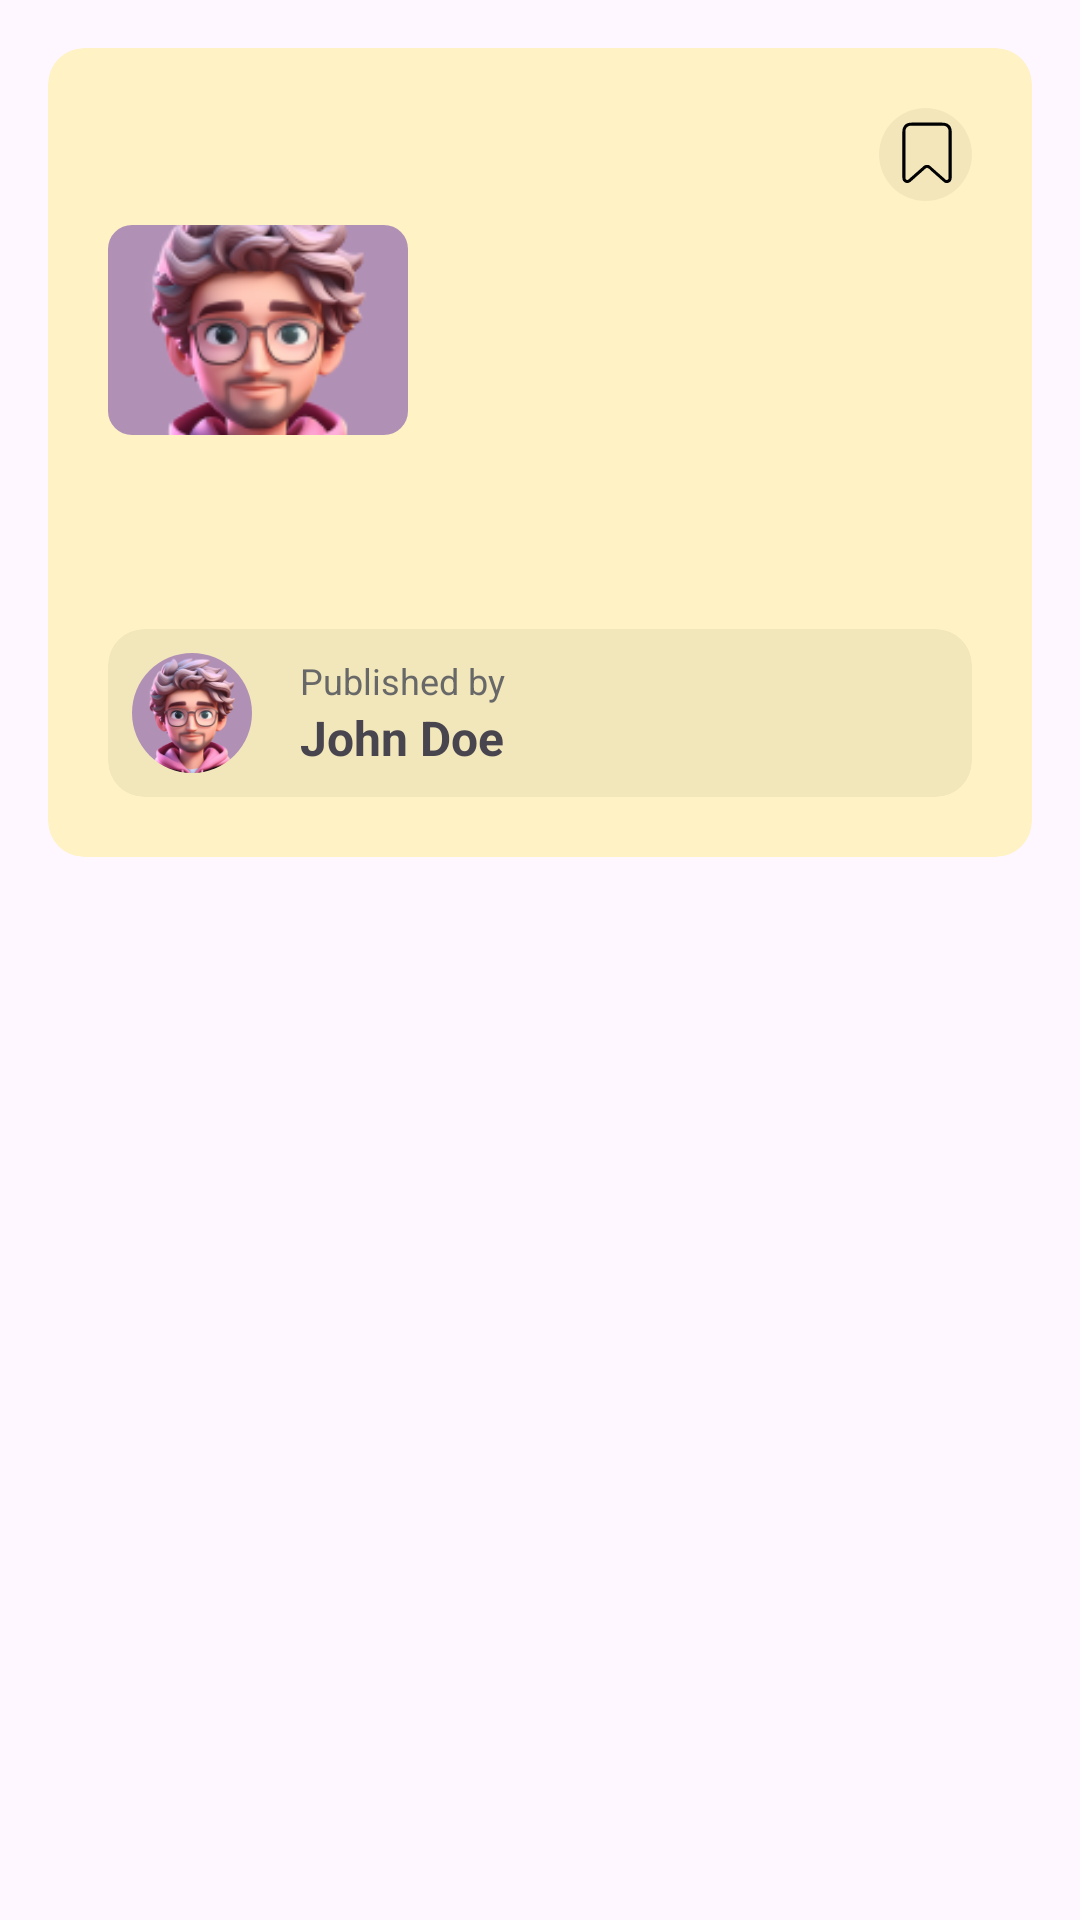

Icon click points for this 1080px x 1920px phone screenshot, format (x=x, y=y):
animoji: (x=258, y=330), (x=192, y=713)
unfill tag: (x=925, y=154)
